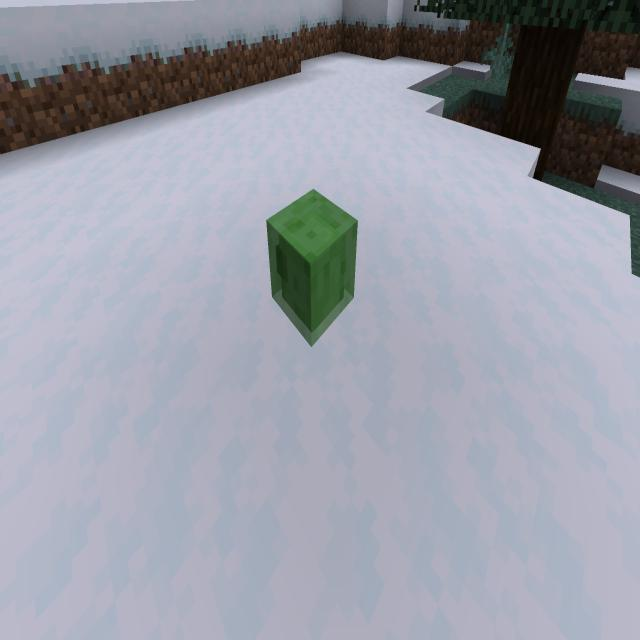Slime: (258, 180, 364, 364)
